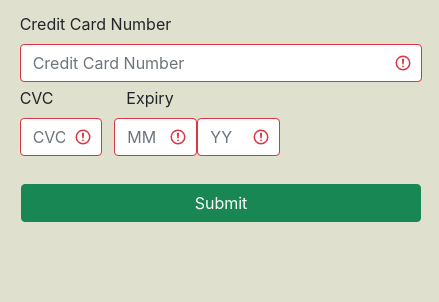
Test: cvc number validation
Type "0" into the field labelled "CVC" at (61, 137), box top-left (20, 118), bottom-right (102, 156)
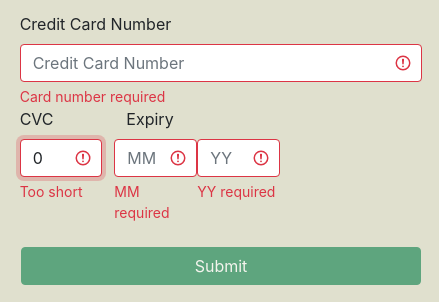
expect the text "Too short" is shown: met, box top-left (20, 183), bottom-right (82, 200)
Type "12" into the field labelled "CVC" at (61, 158), box top-left (20, 139), bottom-right (102, 177)
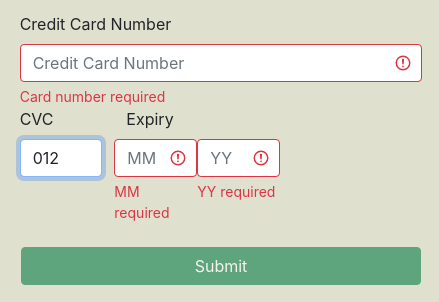
expect the text "Too short" is gone: met
